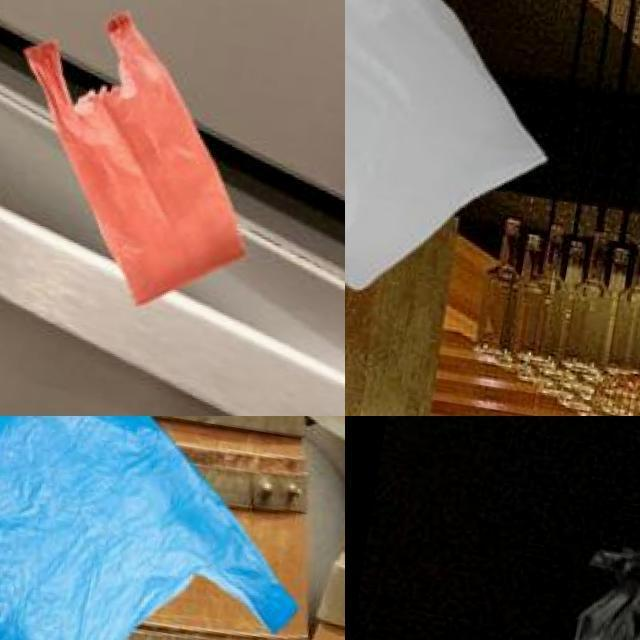waste: (0, 0, 318, 312), (0, 416, 328, 640), (345, 0, 566, 305), (539, 501, 640, 640)
